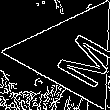M_NW: (34, 21, 110, 87)
